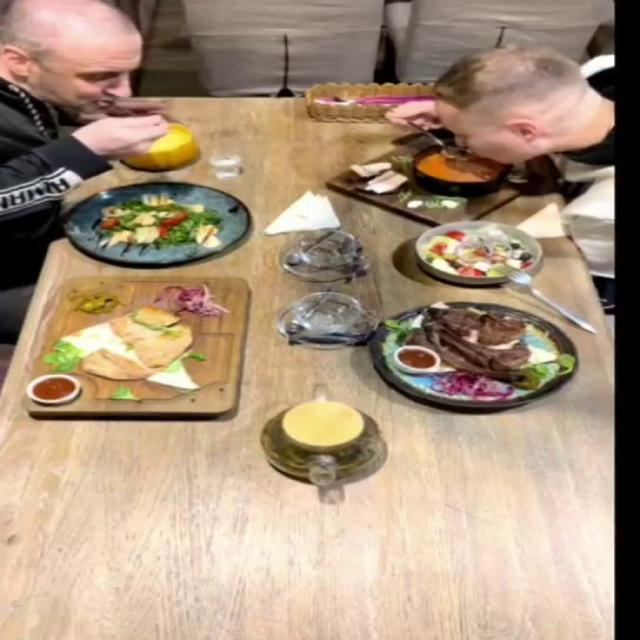alcohol: (195, 147, 272, 172)
meat: (366, 301, 578, 409)
salat: (60, 181, 249, 265), (414, 220, 544, 285)
soup: (324, 135, 552, 226), (120, 122, 199, 170)
tea: (280, 400, 364, 447)
